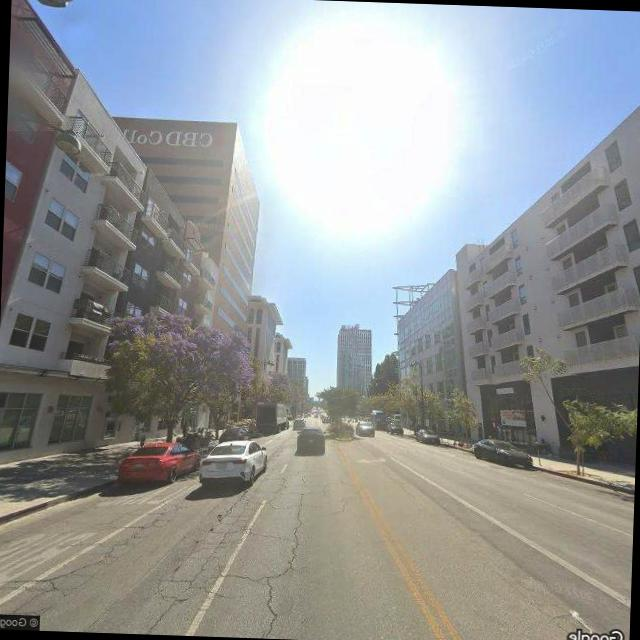crack: (49, 478, 320, 638)
